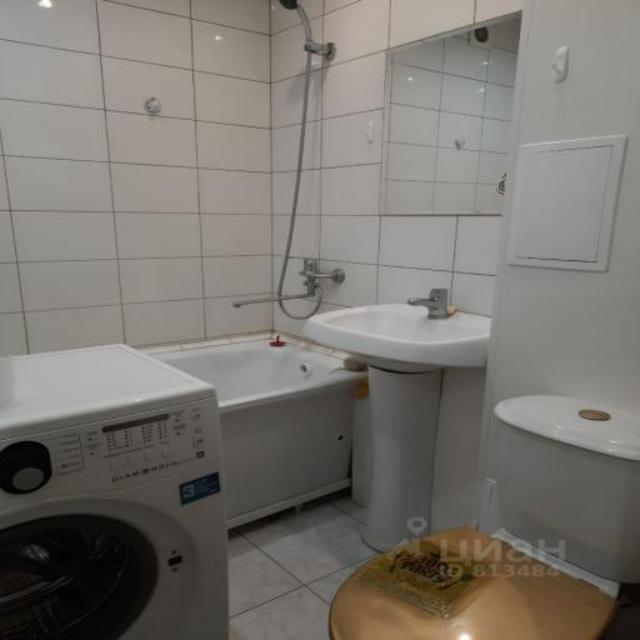Washing-Machine: (0, 332, 230, 638)
